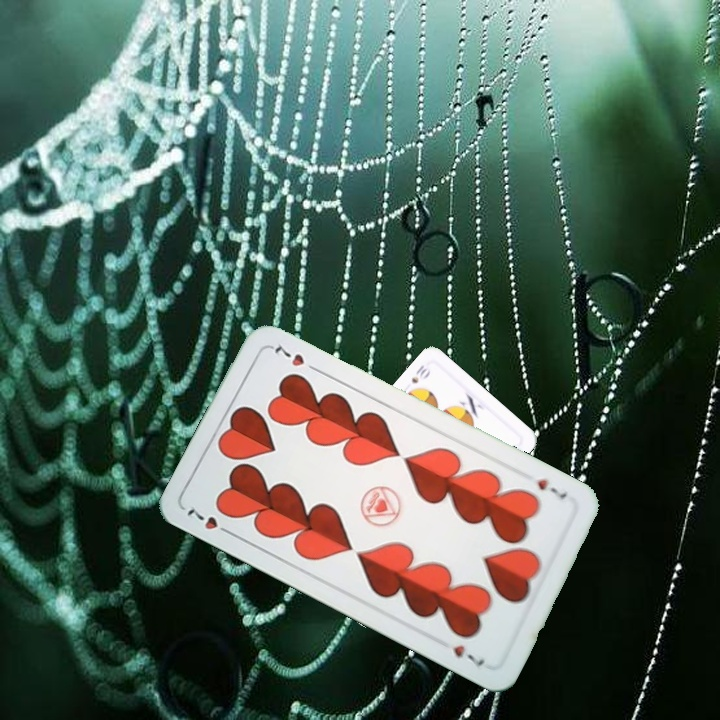H7: (183, 505, 236, 539), (533, 474, 570, 503)
S10: (407, 360, 433, 386)
